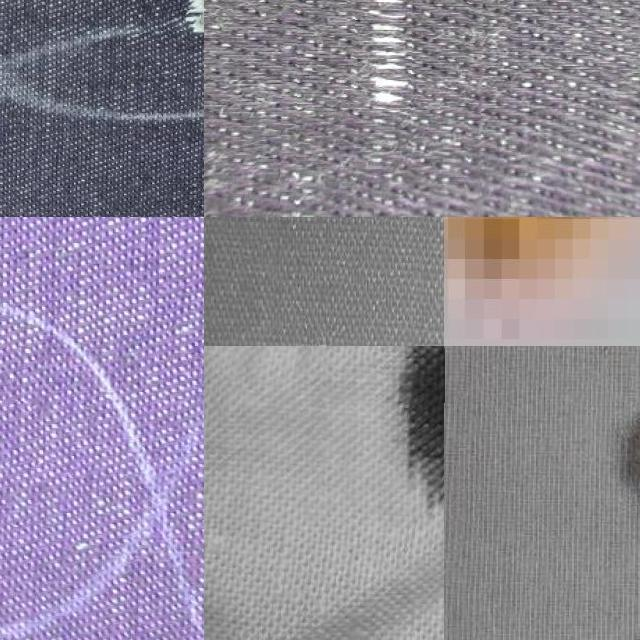Hole: (444, 217, 640, 342), (318, 344, 444, 514), (566, 376, 640, 571), (574, 596, 640, 640)
Thread_other: (280, 0, 484, 217), (0, 399, 42, 523), (125, 0, 204, 63)
